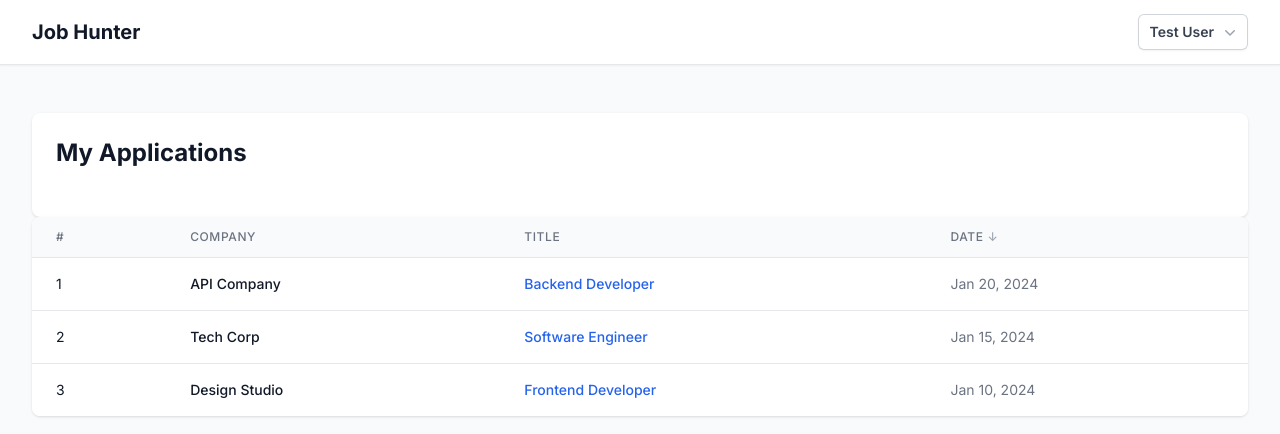
Test: ApplicationsPage › Sorting functionality › should sort by company when company header is clicked
Click the text "Company" at [223, 237], box [190, 229, 256, 245]
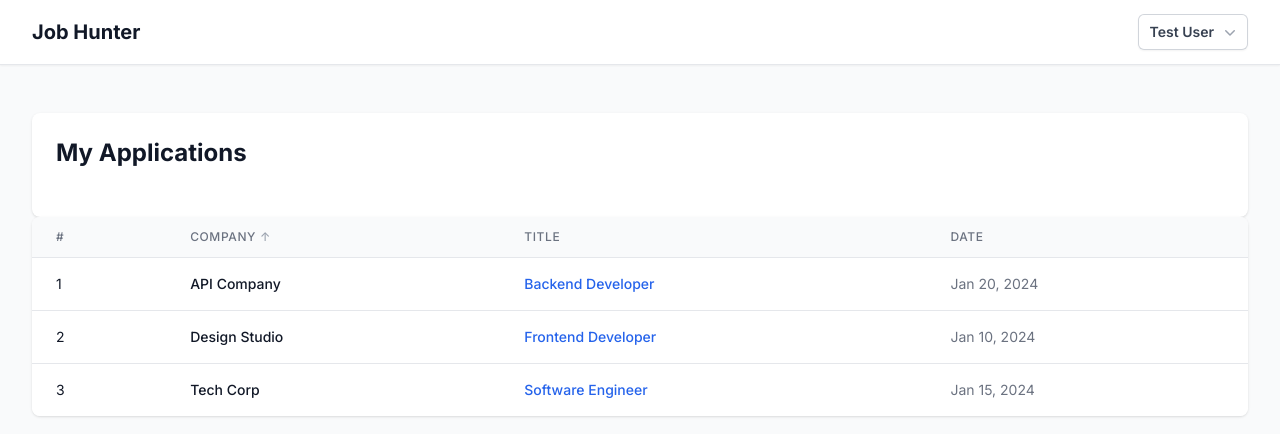
Result: the text "↑" is shown at [260, 229, 271, 245]
